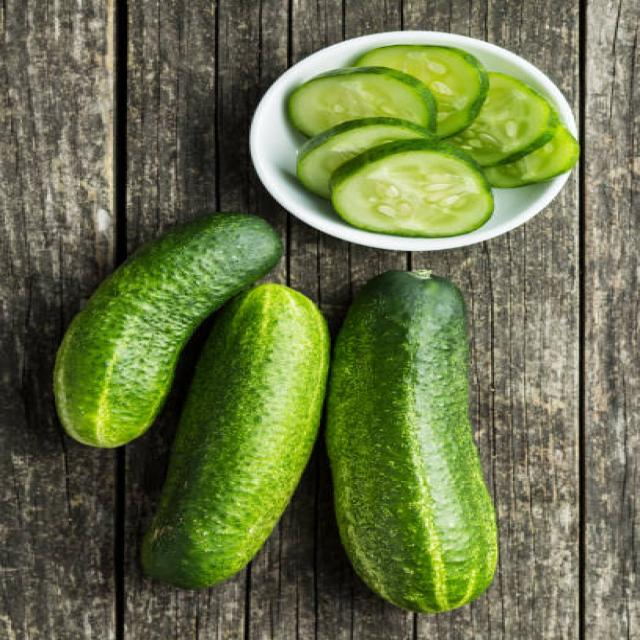cucumber: (322, 270, 498, 612), (139, 284, 334, 588), (53, 211, 282, 449)
